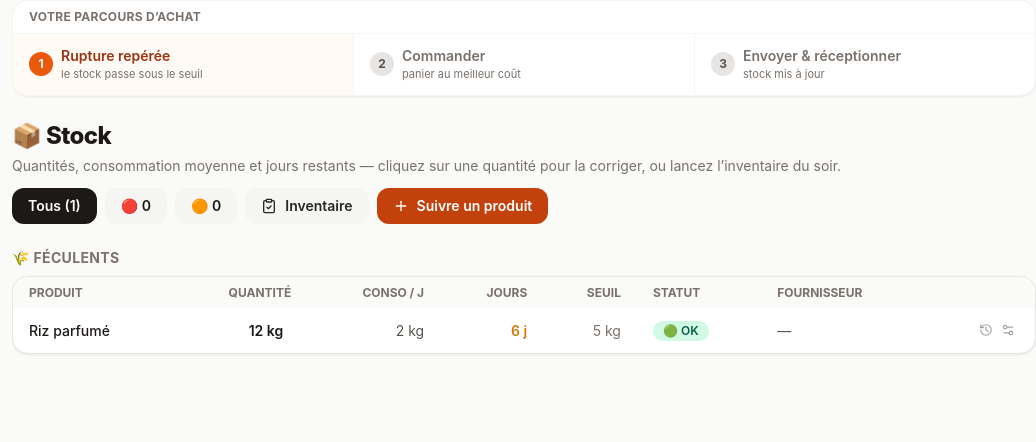
Test: stock : inventaire en lot › compte les articles et envoie le contrat exact attendu par l'API
Expected: the text "Riz parfumé" is shown, [13,308,173,352]
Click the button "Inventaire" at coordinates (307, 206), box [245,188,369,224]
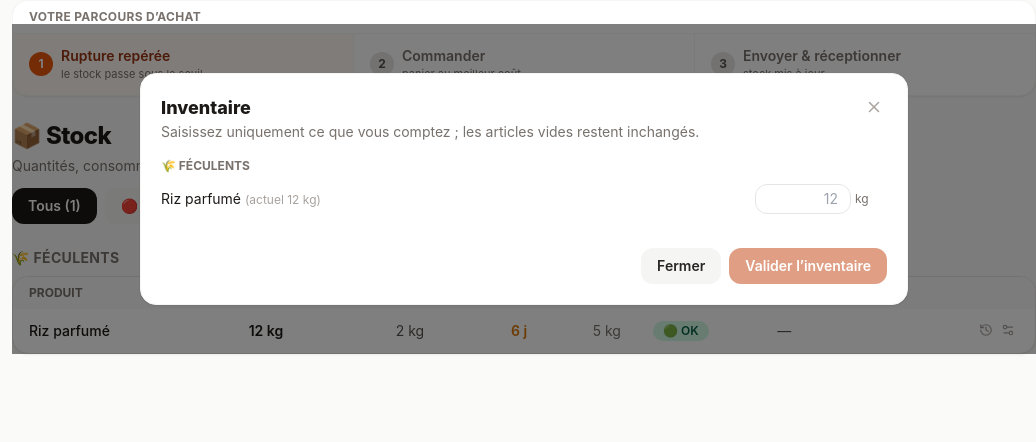
Type "7" into the field with placeholder "12" at coordinates (803, 199), box [755,184,851,214]
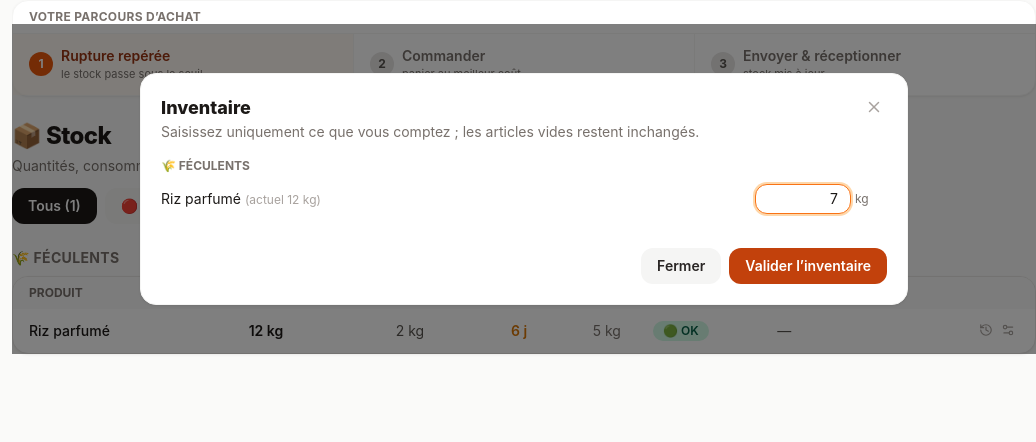
Click the button "Valider l’inventaire" at coordinates (808, 266), box [729,248,887,284]
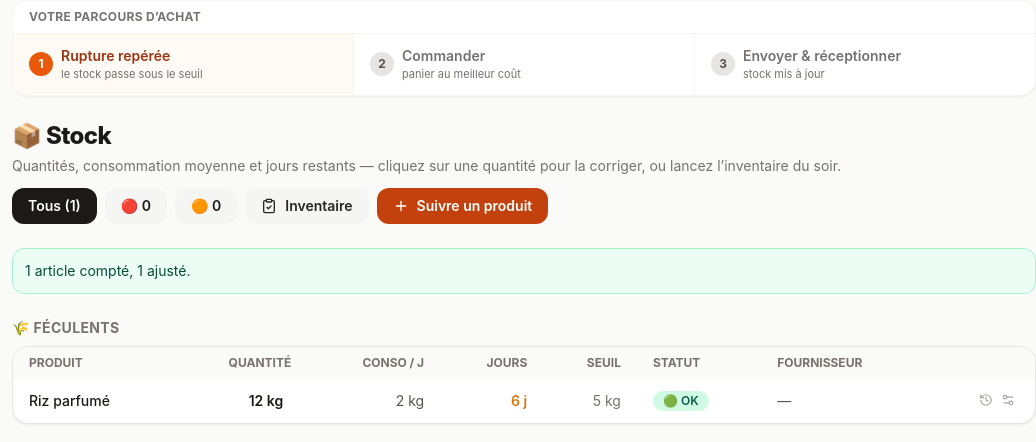
Now the text "1 article compté, 1 ajusté." is shown, box [12,248,1035,294]
